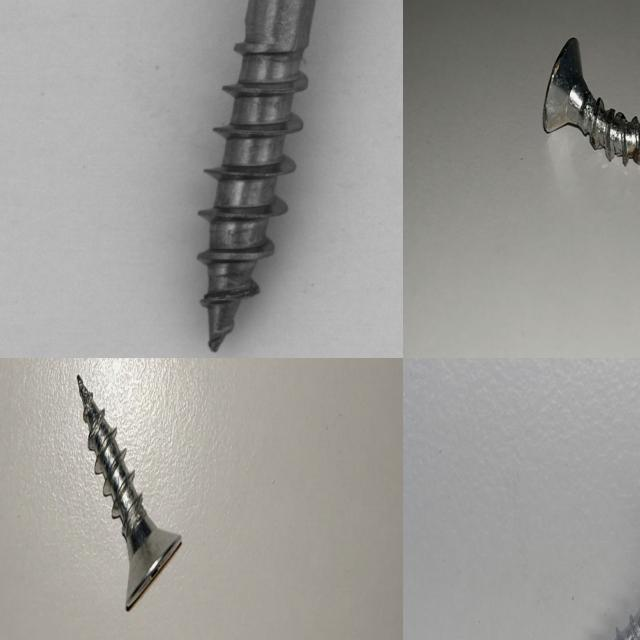Screw: (188, 0, 403, 358), (77, 374, 182, 610), (543, 37, 640, 164)
